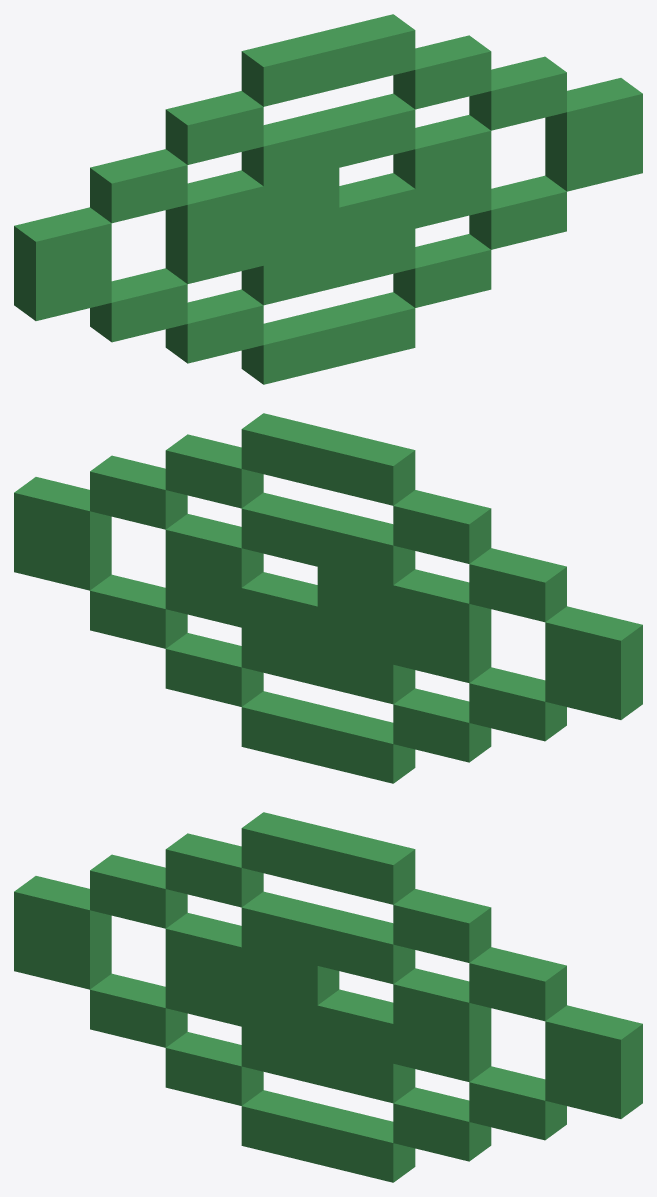
File: Eyes-Green.vox.obj
3 renders of one model, top to bottom at view 1: azimuth 30°, elevation 25°; view 2: azimuth 150°, elevation 25°; view 3: azimuth 330°, elevation 25°, orthographic.
Size of the model in its own units: 1.6 by 0.8 by 0.1.
1 material, 1 textured.
